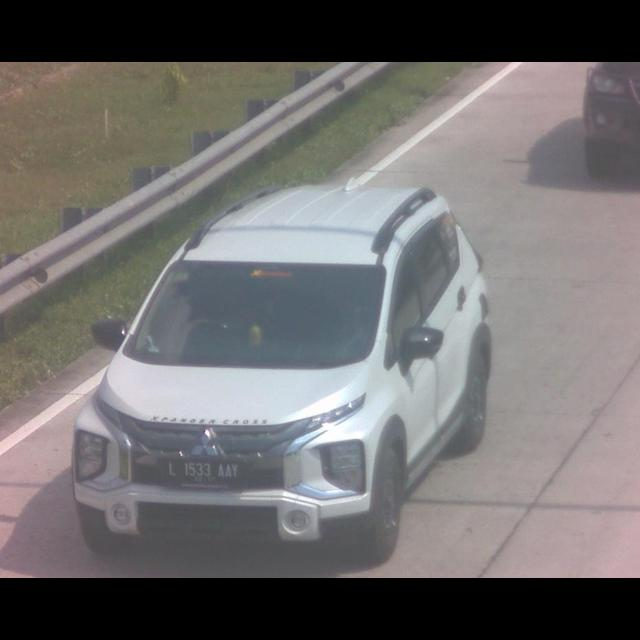plate: (162, 456, 246, 488)
